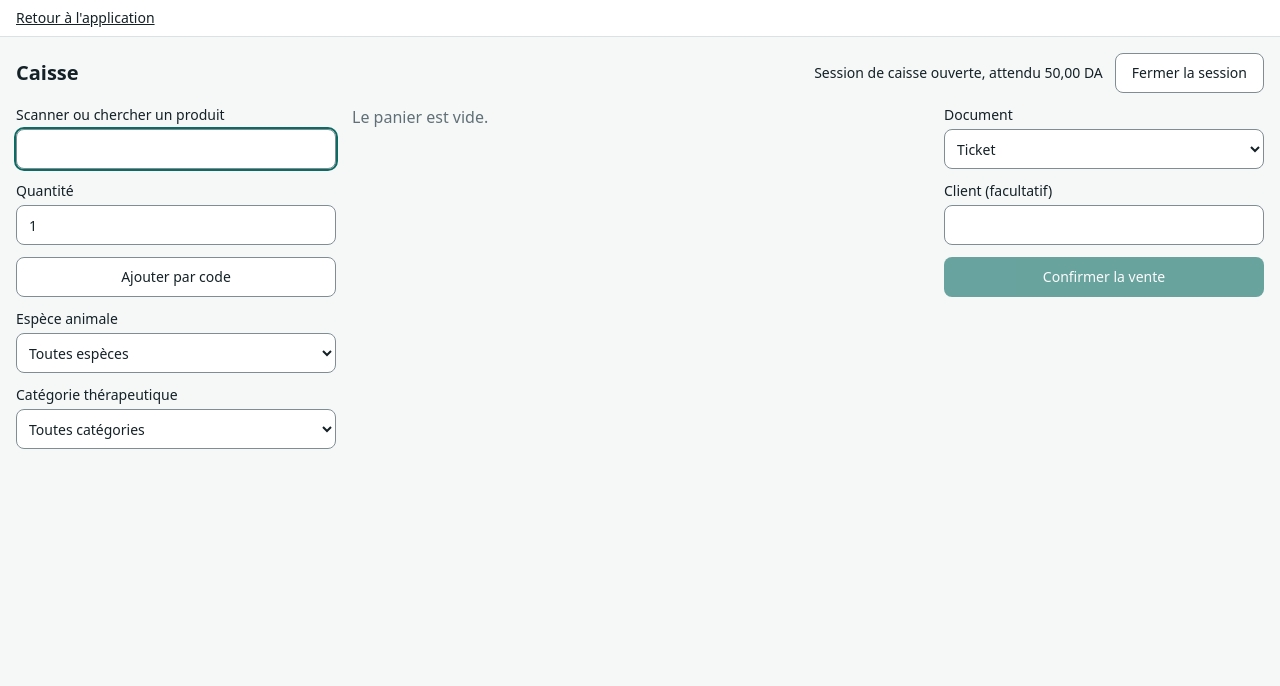
counter sale (frontend.md §4.7, W2) › shows the warnings of a line without blocking the sale (ADR-121)
The image size is (1280, 686).
Type "Vermifuge" into the search field labelled "Scanner ou chercher un produit" at (176, 149), box left=16, top=129, right=336, bottom=169
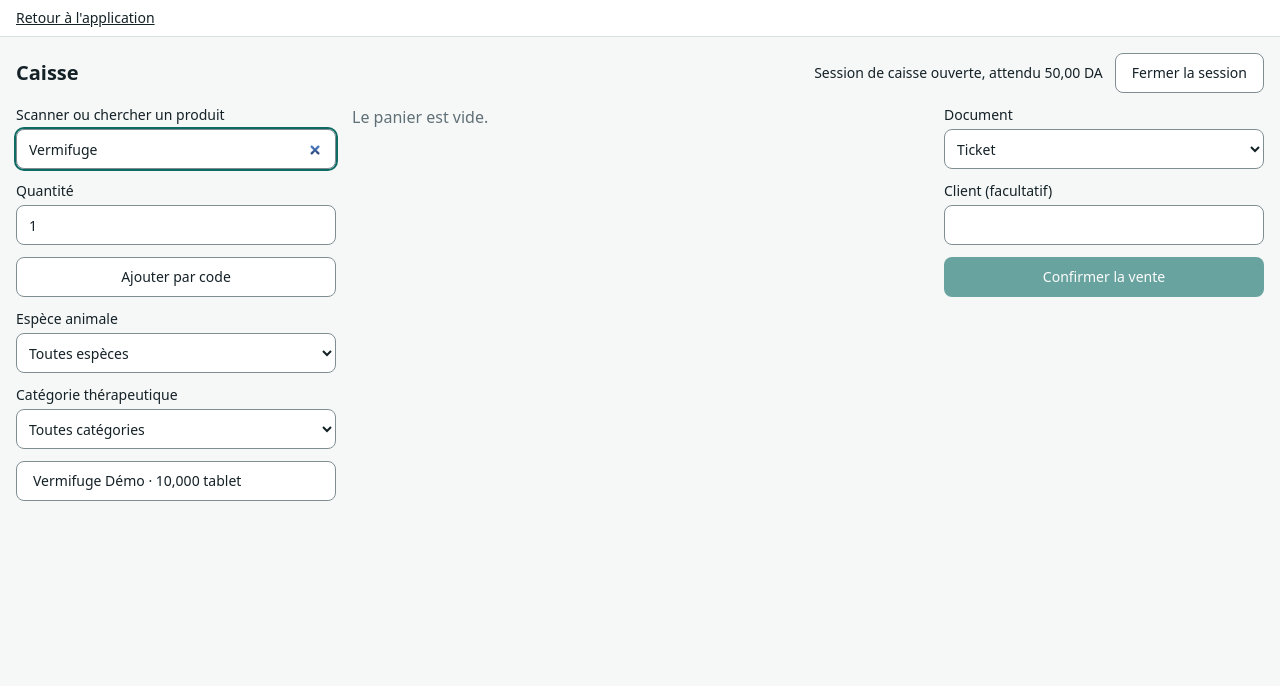
Click the button with aria-label "Ajouter Vermifuge Démo" at (176, 481), box left=16, top=461, right=336, bottom=501
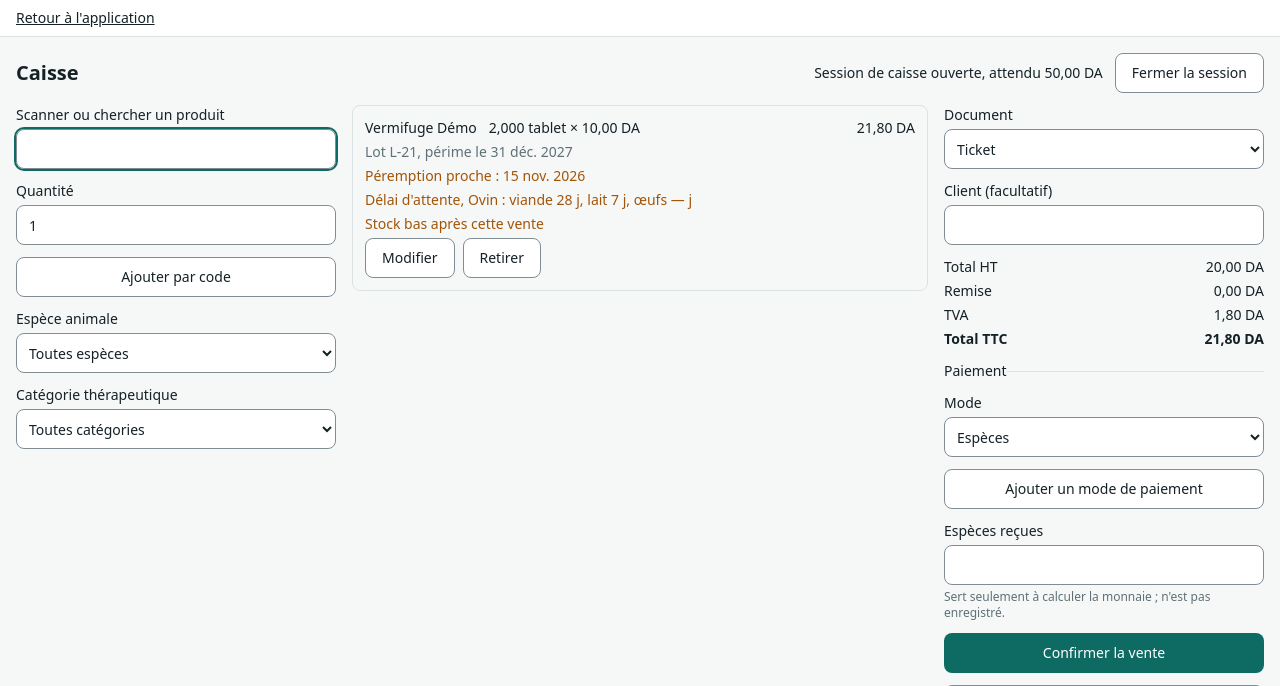
Expected: the list item with test id "pos-line" is shown, left=352, top=105, right=928, bottom=291
Expected: the text "Péremption proche : 15 nov. 2026" is shown, left=365, top=166, right=585, bottom=185
Expected: the text "Délai d'attente, Ovin : viande 28 j, lait 7 j, œufs — j" is shown, left=365, top=190, right=692, bottom=209
